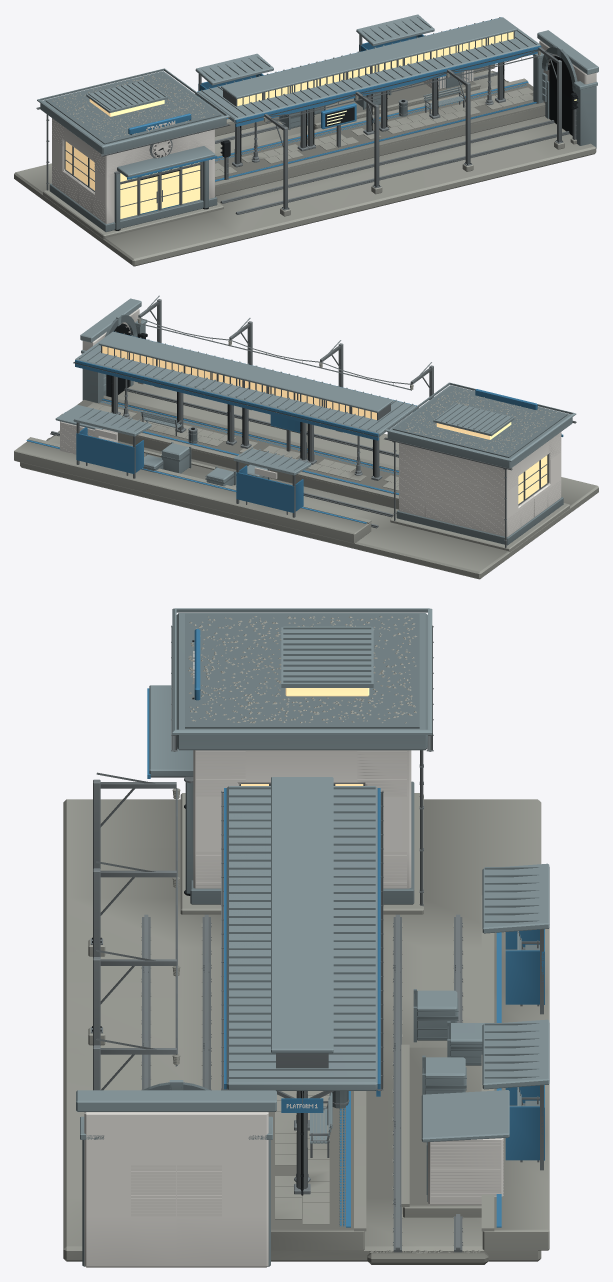
Rendered from transit-station-near.glb.
The picture shows the model from 3 angles, top to bottom: view 1: azimuth 30°, elevation 25°; view 2: azimuth 150°, elevation 25°; view 3: azimuth 270°, elevation 25°; orthographic projection. The views are drawn at different scales.
Visible parts, largest first — view 1: Station1Near, Station2Near, Station3Near; view 2: Station1Near, Station3Near, Station2Near; view 3: Station1Near, Station2Near, Station3Near.
Boxes of the visible parts, x1,y1,x2,y2 form: Station1Near: (14,30,598,266); Station2Near: (65,17,542,166); Station3Near: (195,14,508,143); Station1Near: (20,295,598,579); Station3Near: (14,408,393,543); Station2Near: (73,331,416,464); Station1Near: (63,608,541,1267); Station2Near: (193,661,383,1195); Station3Near: (367,863,549,1264).
Bounding box in the file's own units: 25.91 × 5.74 × 11.6.
